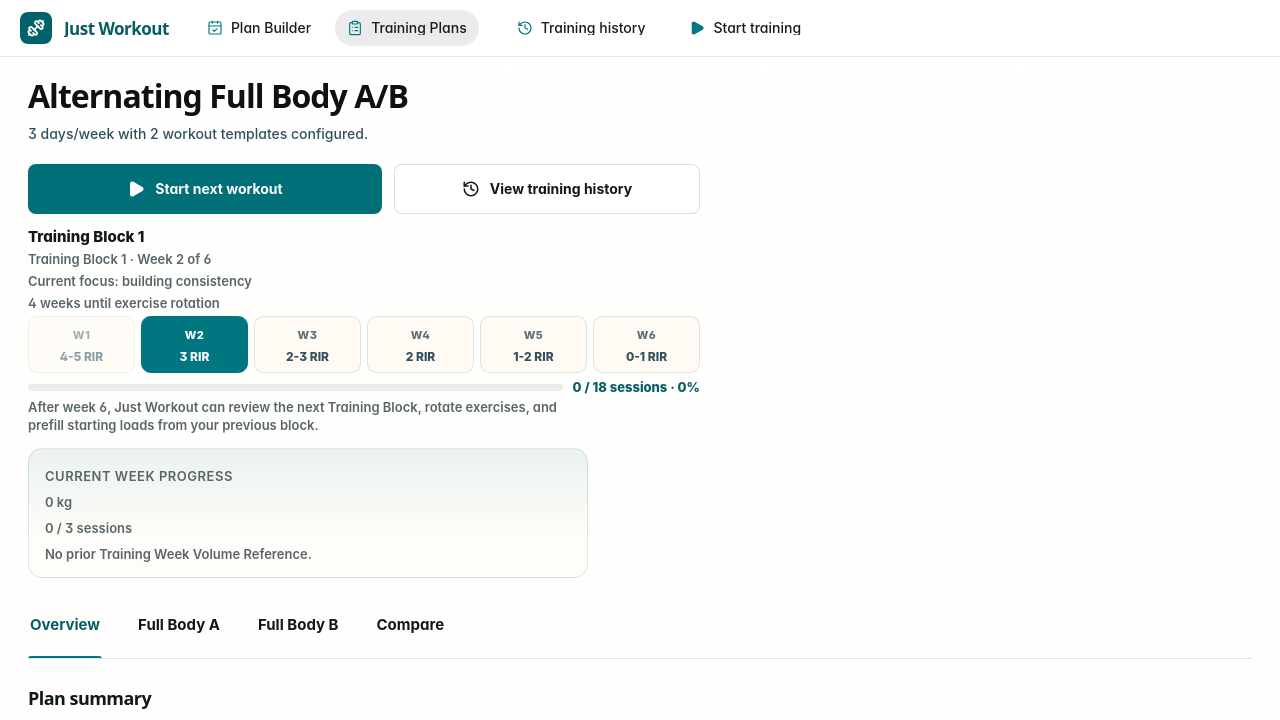
Test: TrainingPlanRoute › renders the Compare tab as a readable template comparison without editing controls
Check: the heading "Alternating Full Body A/B" is shown, box [28,74,408,117]
Click the tab "Compare" at (410, 632), box [374,606,446,658]
(page scrolled)
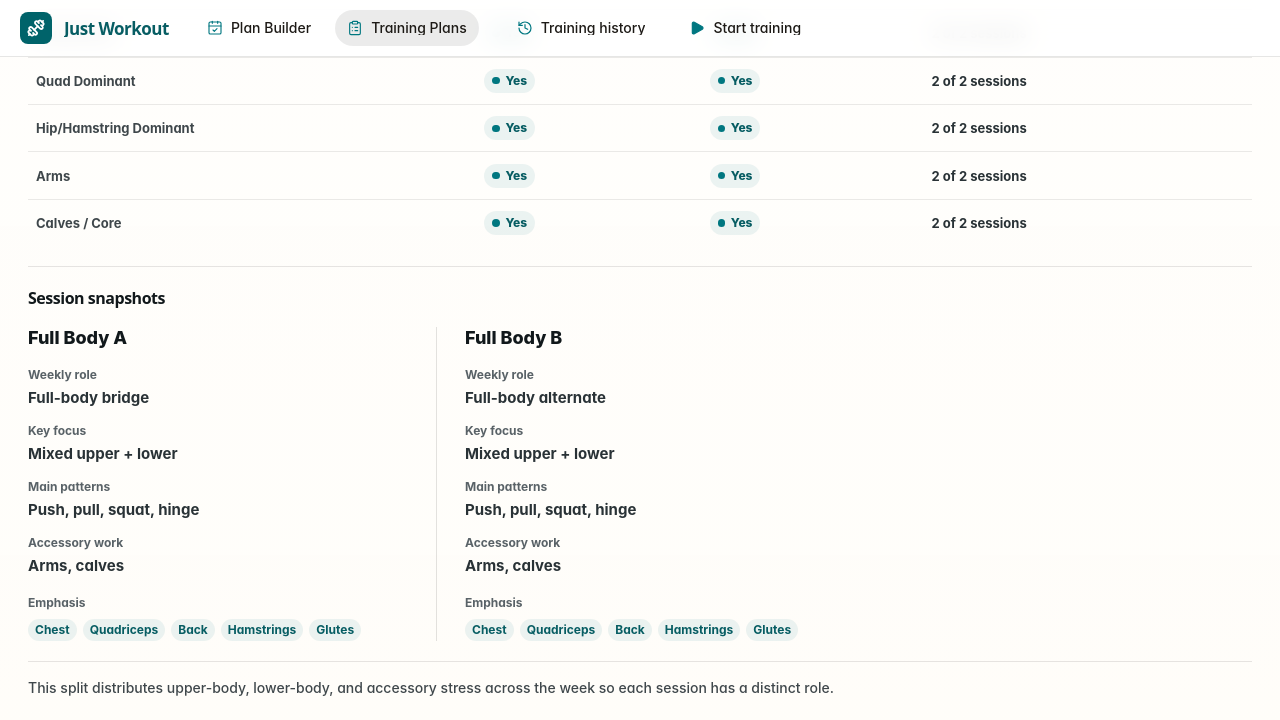
Check: the row "Quad Dominant Yes Yes 2 of 2 sessions" is shown, box [28,57,1252,105]
Check: the row "Calves / Core Yes Yes 2 of 2 sessions" is shown, box [28,199,1252,246]
Check: the element "Session snapshots" is shown, box [28,266,1252,700]
